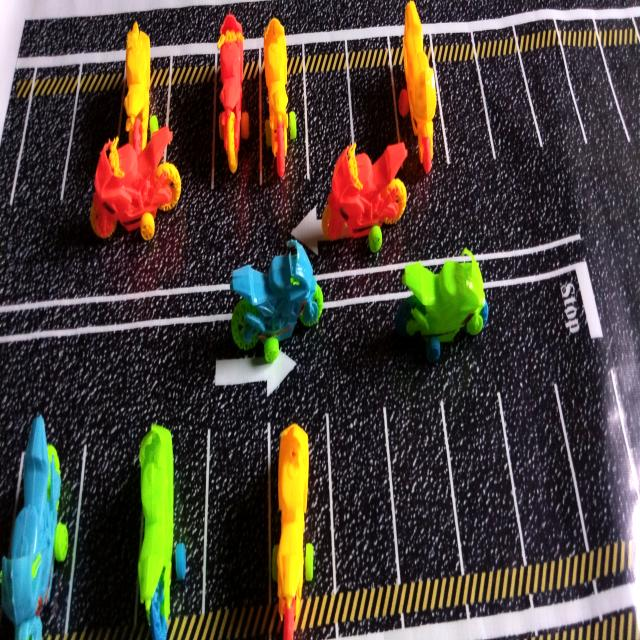bikes: (231, 239, 322, 363), (396, 248, 487, 361), (90, 127, 181, 240), (322, 143, 407, 253)
occupied: (133, 423, 210, 640), (0, 416, 74, 640), (271, 424, 329, 640), (389, 0, 450, 184), (211, 14, 265, 191), (255, 17, 310, 184), (123, 22, 168, 147)
slots: (560, 341, 636, 547), (69, 437, 141, 630), (504, 386, 582, 563), (450, 391, 521, 570), (389, 408, 459, 579), (331, 407, 397, 588), (206, 418, 268, 609), (15, 92, 74, 219), (521, 48, 582, 164), (480, 52, 539, 165), (437, 61, 494, 177), (65, 90, 121, 200), (566, 47, 628, 145), (306, 67, 351, 191), (168, 79, 213, 189), (351, 66, 397, 162), (606, 45, 640, 152)
